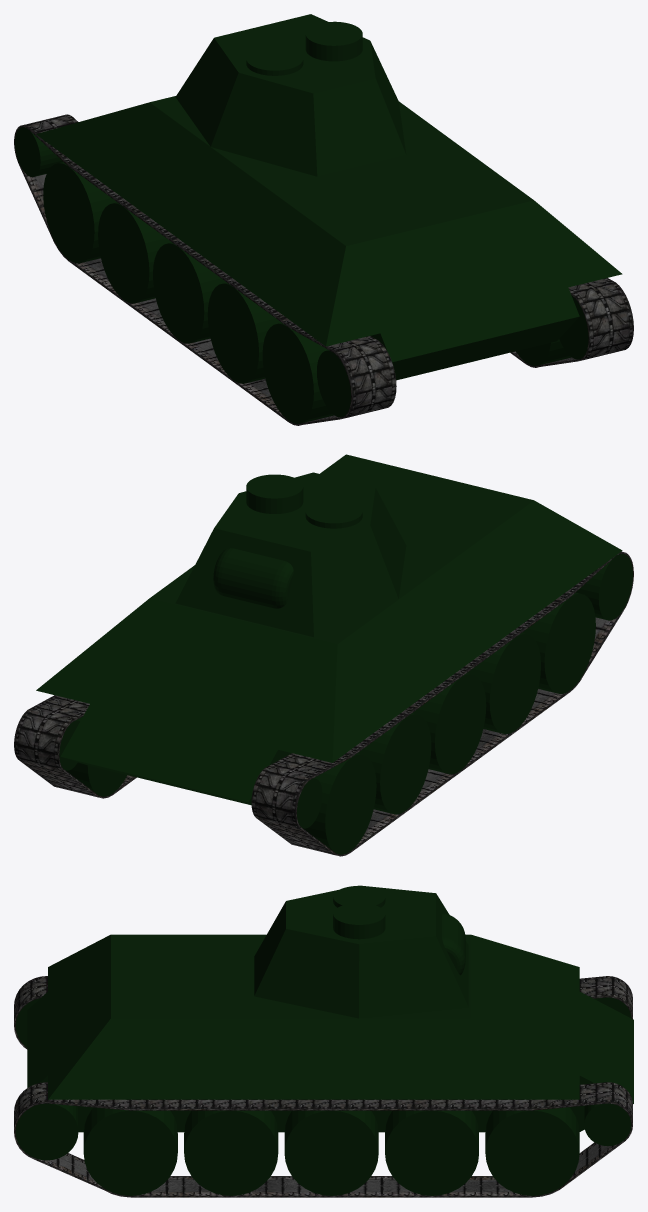
The picture shows the model from 3 angles, top to bottom: view 1: azimuth 30°, elevation 25°; view 2: azimuth 150°, elevation 25°; view 3: azimuth 270°, elevation 25°; orthographic projection. The views are drawn at different scales.
Visible parts, largest first — view 1: Corpus, Turret, Caterpillar.001, Weel.005, Weel.002, Weel, Weel.003, Weel.004, Caterpillar.003, RightCom, Weel.006, Weel.001 (+3 smaller); view 2: Corpus, Turret, Caterpillar.001, Weel.002, Weel, Weel.005, Weel.003, Weel.004, Caterpillar.003, Maska, Weel.006, RightCom (+3 smaller); view 3: Corpus, Turret, Caterpillar.003, Weel.011, Weel.008, Weel.010, Weel.009, Weel.013, Weel.007, Caterpillar.001, Weel.012, RightCom (+3 smaller).
Part boxes in pixels (bbox=[...]): Corpus: bbox=[36, 96, 622, 380]; Turret: bbox=[175, 14, 406, 176]; Caterpillar.001: bbox=[14, 114, 396, 425]; Weel.005: bbox=[262, 323, 333, 423]; Weel.002: bbox=[43, 162, 116, 263]; Weel: bbox=[98, 202, 171, 303]; Weel.003: bbox=[153, 242, 226, 343]; Weel.004: bbox=[207, 282, 281, 383]; Caterpillar.003: bbox=[510, 278, 633, 367]; RightCom: bbox=[305, 21, 362, 61]; Weel.006: bbox=[317, 350, 350, 417]; Weel.001: bbox=[15, 127, 63, 177]; Corpus: bbox=[36, 454, 622, 805]; Turret: bbox=[175, 472, 406, 636]; Caterpillar.001: bbox=[251, 551, 633, 856]; Weel.002: bbox=[303, 753, 376, 854]; Weel: bbox=[357, 713, 431, 814]; Weel.005: bbox=[522, 592, 595, 693]; Weel.003: bbox=[412, 673, 486, 774]; Weel.004: bbox=[467, 633, 540, 734]; Caterpillar.003: bbox=[14, 695, 136, 798]; Maska: bbox=[213, 548, 293, 608]; Weel.006: bbox=[576, 553, 632, 620]; RightCom: bbox=[246, 474, 303, 513]; Corpus: bbox=[27, 934, 633, 1132]; Turret: bbox=[254, 885, 468, 1018]; Caterpillar.003: bbox=[14, 1082, 632, 1197]; Weel.011: bbox=[485, 1107, 579, 1195]; Weel.008: bbox=[83, 1107, 177, 1195]; Weel.010: bbox=[284, 1110, 378, 1195]; Weel.009: bbox=[184, 1110, 278, 1195]; Weel.013: bbox=[385, 1110, 478, 1195]; Weel.007: bbox=[15, 1103, 78, 1160]; Caterpillar.001: bbox=[14, 976, 632, 1049]; Weel.012: bbox=[584, 1103, 631, 1146]; RightCom: bbox=[333, 903, 385, 939].
Size of the model in its own units: 3 by 2.47 by 5.93.
Materials: 2 (1 with a texture image).
